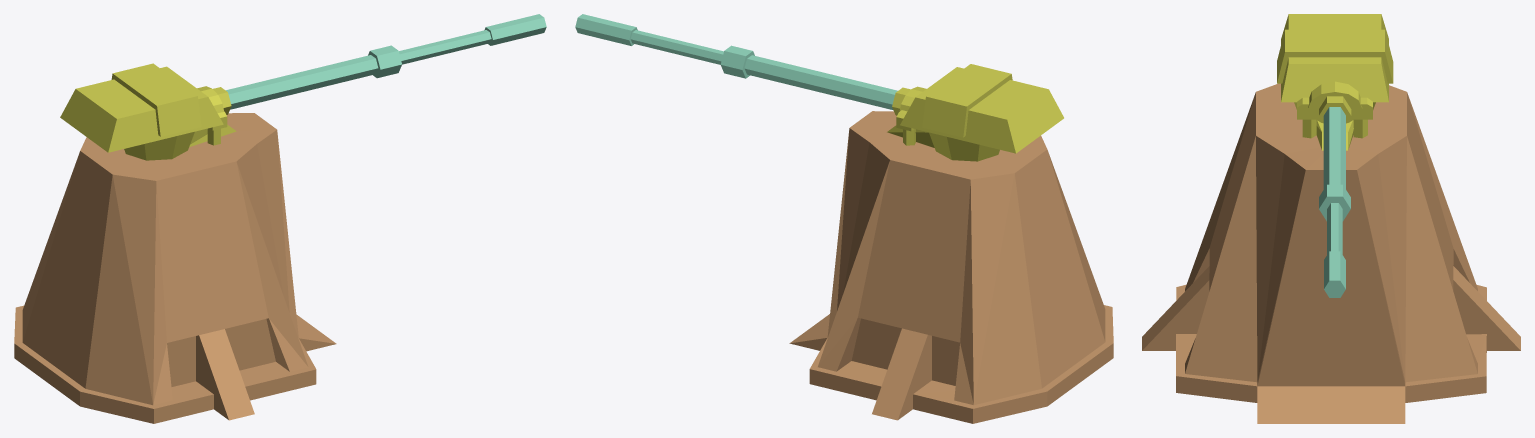
The model's file is Cannon-RRR-1.fbx.
3 views of the same model, side by side, from view 1: azimuth 30°, elevation 25°; view 2: azimuth 150°, elevation 25°; view 3: azimuth 270°, elevation 25° (orthographic). The views are drawn at different scales.
Visible parts, largest first — view 1: russian_3:base, russian_3:attack; view 2: russian_3:base, russian_3:attack; view 3: russian_3:base, russian_3:attack.
Part boxes in pixels (x1,y1,x2,y2): russian_3:base: [14, 113, 336, 423]; russian_3:attack: [60, 14, 546, 160]; russian_3:base: [789, 111, 1113, 423]; russian_3:attack: [575, 14, 1063, 161]; russian_3:base: [1142, 83, 1520, 423]; russian_3:attack: [1277, 14, 1393, 297].
Bounding box in the file's own units: 417 × 217 × 246.
